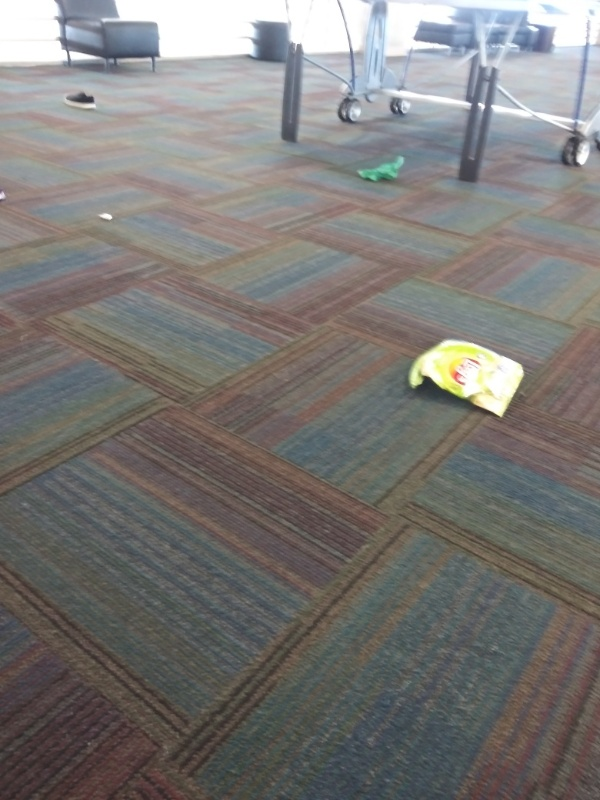bag: (405, 335, 524, 417)
